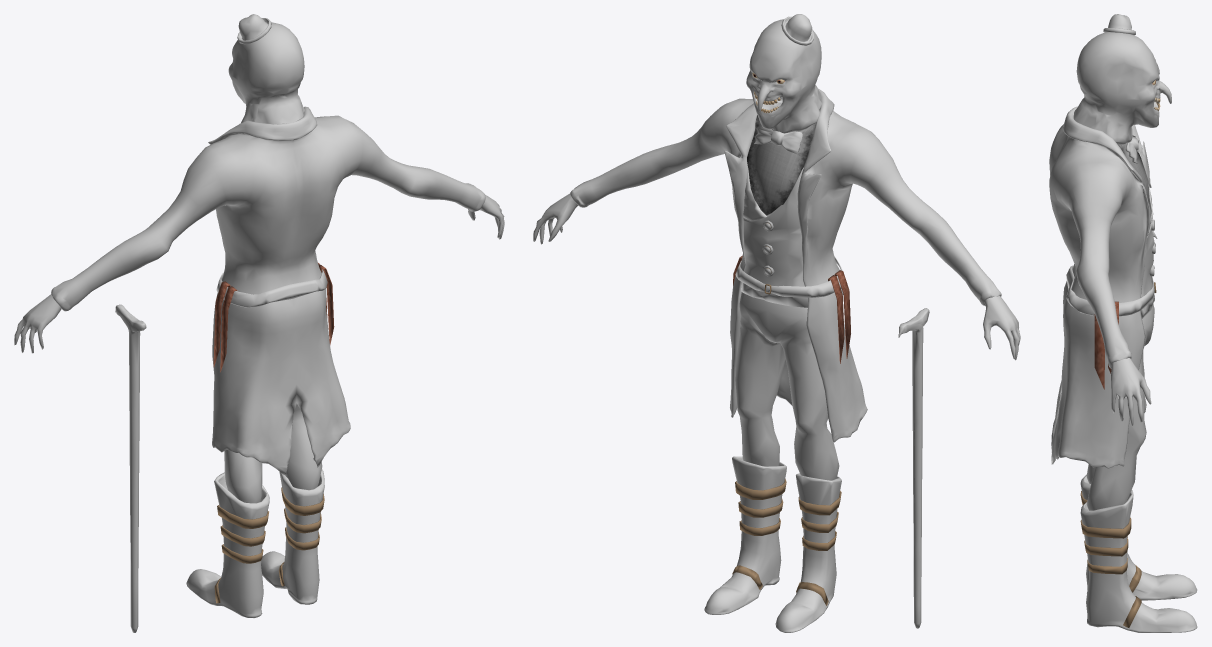
Rendered from Showmaker.fbx.
3 renders of one model, left to right at view 1: azimuth 30°, elevation 25°; view 2: azimuth 150°, elevation 25°; view 3: azimuth 270°, elevation 25°, orthographic.
Visible parts, largest first — view 1: ceket, kafa, ayak2, ayak1, pantolon, baston, kusak, ayakdemır1, el2, ayakdemır2, sapka; view 2: ceket, pantolon, kafa, ayak1, yelek1, ayak2, ic, baston, el2, ayakdemır2, kusak, ayakdemır1 (+3 smaller); view 3: ceket, kafa, ayak1, pantolon, ayak2, el, ayakdemır2, kusak, yelek1, derı4, sapka, ic (+2 smaller).
Boxes of the visible parts, left/top/right/bottom form: ceket: left=51, top=106, right=485, bottom=475; kafa: left=228, top=22, right=304, bottom=124; ayak2: left=186, top=472, right=269, bottom=617; ayak1: left=261, top=469, right=324, bottom=604; pantolon: left=224, top=403, right=322, bottom=503; baston: left=115, top=304, right=146, bottom=632; kusak: left=216, top=269, right=327, bottom=307; ayakdemır1: left=217, top=505, right=268, bottom=563; el2: left=14, top=294, right=61, bottom=353; ayakdemır2: left=281, top=487, right=324, bottom=550; sapka: left=237, top=14, right=271, bottom=44; ceket: left=570, top=88, right=1001, bottom=442; pantolon: left=735, top=292, right=839, bottom=480; kafa: left=746, top=19, right=821, bottom=133; ayak1: left=704, top=456, right=786, bottom=614; yelek1: left=741, top=167, right=808, bottom=307; ayak2: left=775, top=473, right=841, bottom=632; ic: left=747, top=115, right=815, bottom=215; baston: left=898, top=308, right=929, bottom=628; el2: left=983, top=296, right=1020, bottom=360; ayakdemır2: left=735, top=478, right=786, bottom=535; kusak: left=735, top=256, right=842, bottom=297; ayakdemır1: left=798, top=491, right=841, bottom=550; ceket: left=1049, top=106, right=1149, bottom=468; kafa: left=1073, top=32, right=1171, bottom=144; ayak1: left=1080, top=490, right=1197, bottom=632; pantolon: left=1086, top=304, right=1154, bottom=510; ayak2: left=1080, top=474, right=1197, bottom=600; el: left=1111, top=358, right=1151, bottom=425; ayakdemır2: left=1080, top=517, right=1131, bottom=574; kusak: left=1066, top=265, right=1154, bottom=316; yelek1: left=1138, top=151, right=1154, bottom=318; derı4: left=1094, top=314, right=1104, bottom=389; sapka: left=1103, top=14, right=1135, bottom=35; ic: left=1117, top=143, right=1149, bottom=203.
Bounding box in the file's own units: 214 × 248 × 56.58.
